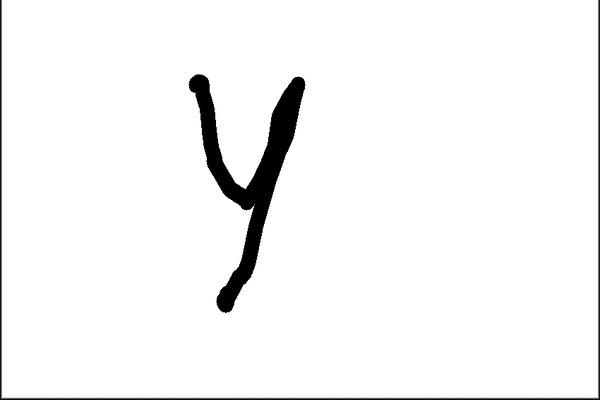Y: (174, 61, 316, 316)
